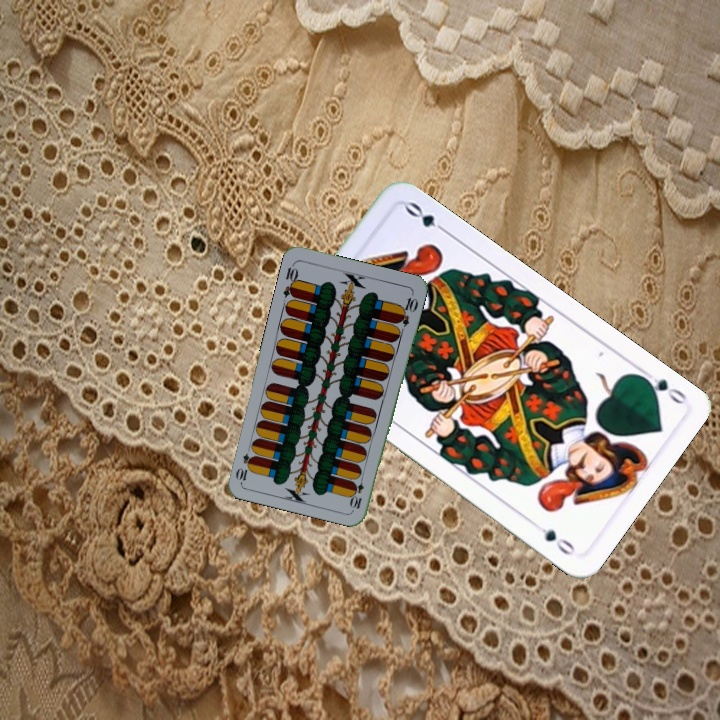E10: (279, 259, 301, 300), (348, 471, 367, 511)
GO: (634, 365, 689, 407)
